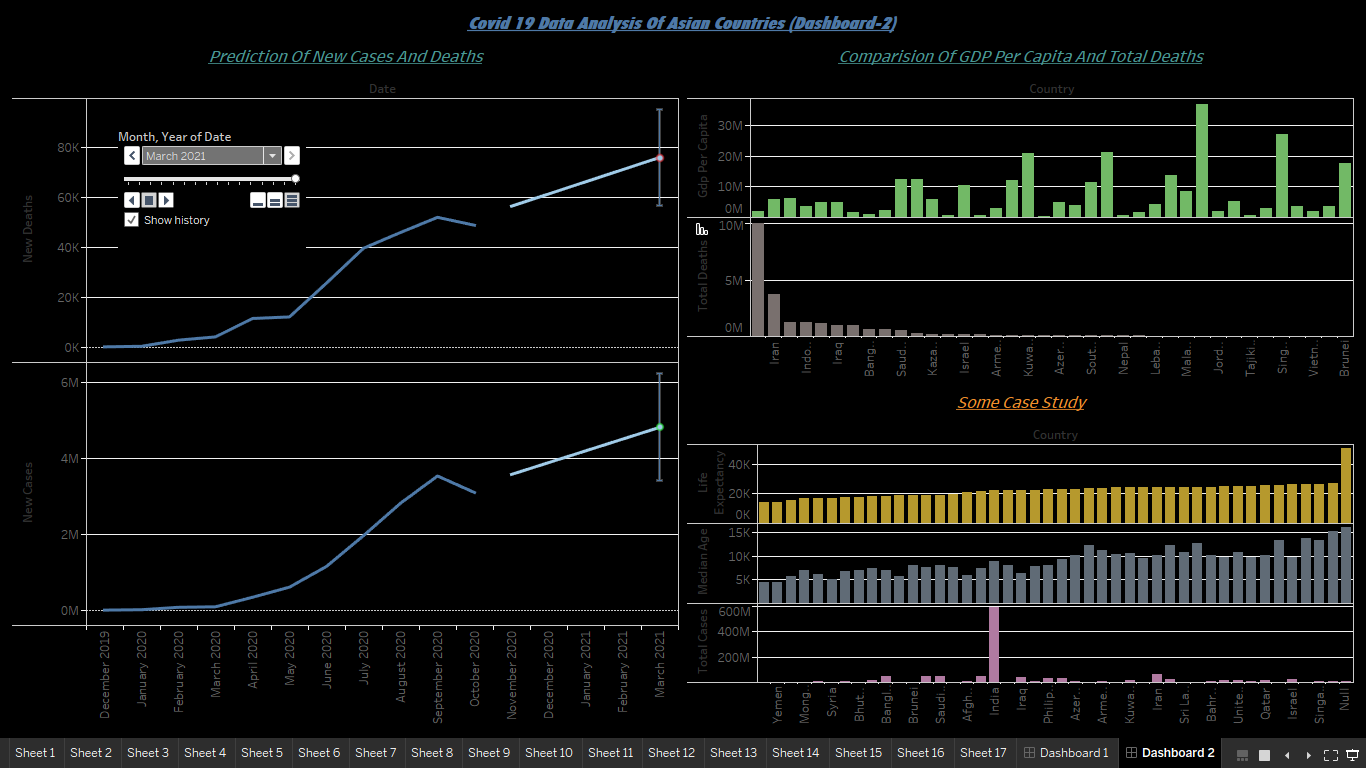

What the dashboard file says about the page in this screenshot:
{"tool":"tableau","page":{"name":"Dashboard 2","canvas":[1000,1000],"units":"permille","ordinal":1},"visuals":[{"type":"worksheet","box":[0,0,1000,1000]},{"type":"worksheet","param":"vert","box":[6.9,12.7,986.1,974.7]},{"type":"worksheet","box":[6.9,12.7,986.1,45.9]},{"type":"worksheet","param":"horz","box":[6.9,58.6,986.1,928.8]},{"type":"worksheet","param":"horz","box":[6.9,58.6,986.1,928.8]},{"type":"worksheet","box":[6.9,58.6,986.1,928.8]},{"type":"worksheet","title":"Sheet 6","mark":"Circle","rows":["new_deaths","new_cases"],"cols":["date"],"box":[6.9,58.6,493.1,928.8]},{"type":"worksheet","title":"Sheet 8","mark":"Automatic","rows":["gdp_per_capita","total_deaths"],"cols":["country"],"box":[500,58.6,493.1,464.4]},{"type":"worksheet","title":"Sheet 6","mark":"Circle","rows":["new_deaths","new_cases"],"cols":["date"],"box":[86.6,174.1,137.7,169.3]},{"type":"worksheet","title":"Sheet 10","mark":"Automatic","rows":["life_expectancy","median_age","total_cases"],"cols":["country"],"box":[500,522.9,493.1,464.4]}]}

Visuals, with their boxes on the dashboard's canvas, which has no fixed pixel size, in thousandths of its width and height (x1, y1, x2, y2). These are canvas units, not pixel positions in the 1366x768 screenshot, which may show the page scaled, cropped or inside an application window:
worksheet: <bbox>0, 0, 1000, 1000</bbox>
worksheet: <bbox>7, 13, 993, 987</bbox>
worksheet: <bbox>7, 13, 993, 59</bbox>
worksheet: <bbox>7, 59, 993, 987</bbox>
worksheet: <bbox>7, 59, 993, 987</bbox>
worksheet: <bbox>7, 59, 993, 987</bbox>
"Sheet 6" worksheet (Circle marks): <bbox>7, 59, 500, 987</bbox>
"Sheet 8" worksheet: <bbox>500, 59, 993, 523</bbox>
"Sheet 6" worksheet (Circle marks): <bbox>87, 174, 224, 343</bbox>
"Sheet 10" worksheet: <bbox>500, 523, 993, 987</bbox>
